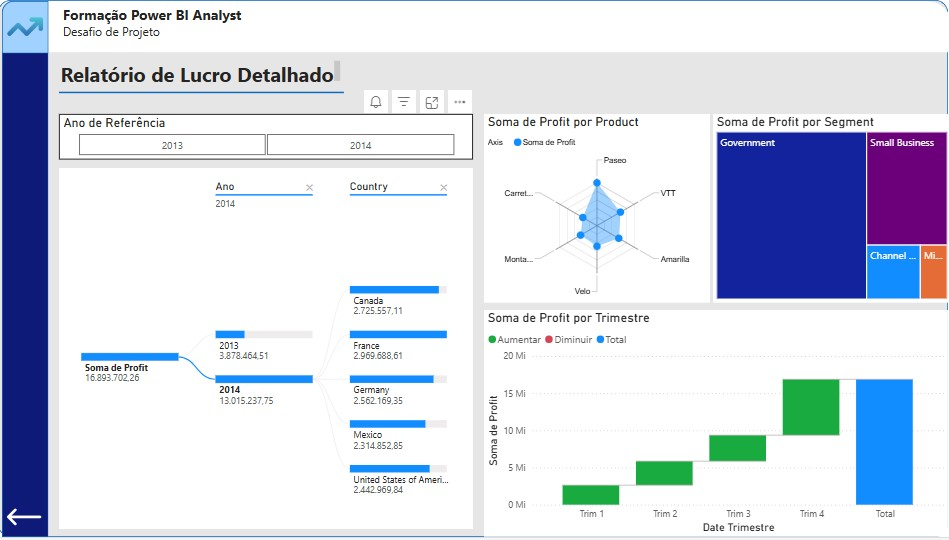

The dashboard page shown, as its layout file describes it:
{"tool":"powerbi","page":{"name":"Página 2","canvas":[1280,720],"ordinal":1},"visuals":[{"type":"shape","box":[0,0,1273.8,720],"z":0},{"type":"shape","box":[5.3,1.2,62.2,718.8],"z":1000},{"type":"shape","box":[5.8,1.2,62.3,70.4],"z":2000},{"type":"image","title":"logo_grow","box":[5.8,6.9,62.3,57.7],"z":3000},{"type":"shape","box":[68.1,1.2,1211.5,69.2],"z":4000},{"type":"textbox","box":[81.9,1.2,531.9,58.8],"z":5000},{"type":"shape","box":[82,117.1,382,14.6],"z":6000},{"type":"textbox","box":[77.6,76.1,386.3,41],"z":7000},{"type":"image","box":[4.4,664.4,61.5,55.6],"z":10000},{"type":"slicer","title":"Ano de Referência","fields":{"Values":["Sheet1.Date.Variation.Hierarquia de datas.Ano"]},"box":[82,152.2,554.6,61.5],"z":11000},{"type":"decompositionTreeVisual","fields":{"Analyze":["Sum(Sheet1.Profit)"],"ExplainBy":["Sheet1.Date.Variation.Hierarquia de datas.Ano","Sheet1.Country"]},"box":[82,225.4,554.6,484.4],"z":12000},{"type":"RadarChart1446119667547","fields":{"Y":["Sum(Sheet1.Profit)"],"Category":["Sheet1.Product"]},"box":[651.2,152.2,302.9,253.2],"z":14000},{"type":"treemap","fields":{"Details":["Sheet1.Segment"],"Values":["Sum(Sheet1.Profit)"]},"box":[958.5,152.2,319,253.2],"z":14002},{"type":"waterfallChart","fields":{"Y":["Sum(Sheet1.Profit)"],"Category":["Sheet1.Date.Variation.Hierarquia de datas.Trimestre"]},"box":[651.2,415.6,622,304.4],"z":14003}]}

Visuals, with their boxes on the page's 1280x720 design canvas (x1, y1, x2, y2). These are canvas units, not pixel positions in the 949x540 screenshot, which may show the page scaled, cropped or inside an application window:
shape: box(0, 0, 1274, 720)
shape: box(5, 1, 68, 720)
shape: box(6, 1, 68, 72)
"logo_grow" image: box(6, 7, 68, 65)
shape: box(68, 1, 1280, 70)
textbox: box(82, 1, 614, 60)
shape: box(82, 117, 464, 132)
textbox: box(78, 76, 464, 117)
image: box(4, 664, 66, 720)
"Ano de Referência" slicer: box(82, 152, 637, 214)
decompositionTreeVisual - Sum(Sheet1.Profit) x Sheet1.Date.Variation.Hierarquia de datas.Ano: box(82, 225, 637, 710)
RadarChart1446119667547 - Sum(Sheet1.Profit) x Sheet1.Product: box(651, 152, 954, 405)
treemap - Sheet1.Segment x Sum(Sheet1.Profit): box(958, 152, 1278, 405)
waterfallChart - Sum(Sheet1.Profit) x Sheet1.Date.Variation.Hierarquia de datas.Trimestre: box(651, 416, 1273, 720)
